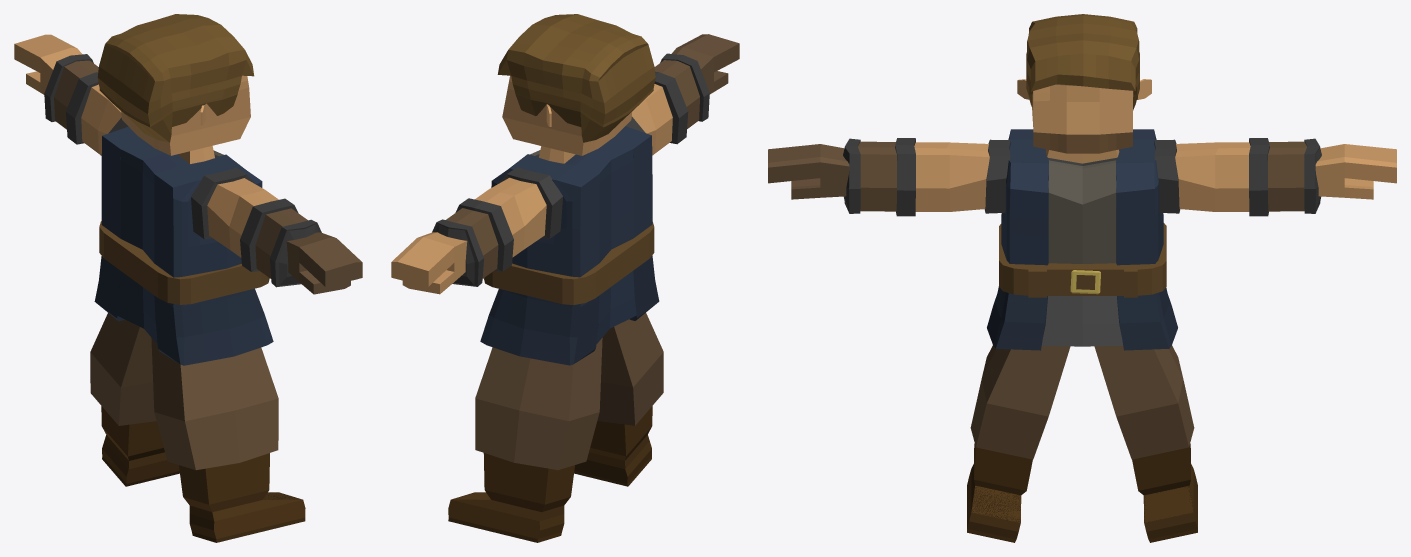
Rendered from SwordManL (2).fbx.
3 renders of one model, left to right at view 1: azimuth 30°, elevation 25°; view 2: azimuth 150°, elevation 25°; view 3: azimuth 270°, elevation 25°, orthographic.
Parts seen in each view (by area): view 1: Cube.001, Cube.008, Cube.005, Cube.002, Cube.007, Cube.006; view 2: Cube.001, Cube.008, Cube.005, Cube.002, Cube.006, Cube.007; view 3: Cube.001, Cube.008, Cube.005, Cube.002, Cube.006, Cube.007.
Boxes of the visible parts, <box> form: Cube.001: <box>44,54,321,365</box>; Cube.008: <box>90,313,305,542</box>; Cube.005: <box>97,14,254,155</box>; Cube.002: <box>99,221,269,304</box>; Cube.007: <box>286,232,362,294</box>; Cube.006: <box>14,34,81,94</box>; Cube.001: <box>432,53,709,365</box>; Cube.008: <box>448,313,663,542</box>; Cube.005: <box>497,14,655,155</box>; Cube.002: <box>483,222,654,304</box>; Cube.006: <box>391,232,467,294</box>; Cube.007: <box>671,34,739,94</box>; Cube.001: <box>843,129,1321,350</box>; Cube.008: <box>967,345,1197,542</box>; Cube.005: <box>1026,14,1139,153</box>; Cube.002: <box>999,223,1166,297</box>; Cube.006: <box>1315,144,1396,199</box>; Cube.007: <box>768,144,849,199</box>.
Size of the model in its own units: 49.08 by 176 by 209.
